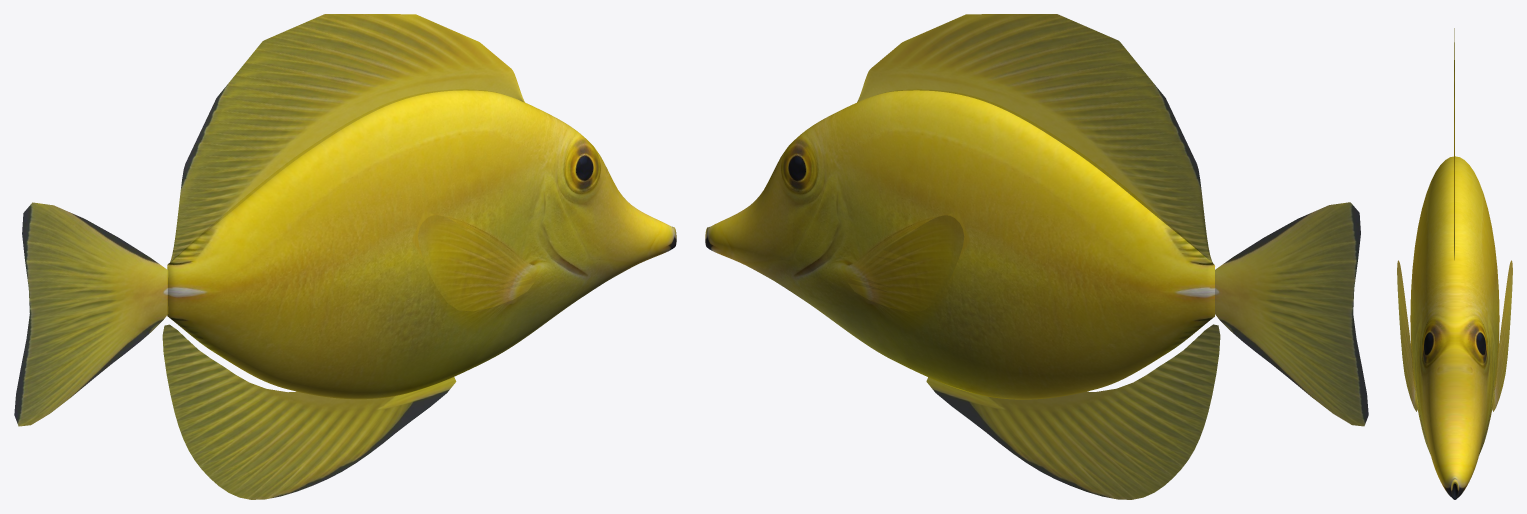
Rendered from yellow.glb.
The picture shows the model from 3 angles, left to right: view 1: azimuth 30°, elevation 25°; view 2: azimuth 150°, elevation 25°; view 3: azimuth 270°, elevation 25°; orthographic projection. The views are drawn at different scales.
Parts seen in each view (by area): view 1: yellow__body, yellow__fin_1, yellow__fin_2, yellow__fin_0, yellow__pectoral_1, yellow__gill_1, yellow__eye_1; view 2: yellow__body, yellow__fin_1, yellow__fin_2, yellow__fin_0, yellow__pectoral_-1, yellow__gill_-1, yellow__eye_-1; view 3: yellow__body, yellow__pectoral_1, yellow__pectoral_-1, yellow__eye_1, yellow__eye_-1, yellow__gill_1, yellow__gill_-1, yellow__fin_1.
Part boxes in pixels (x1,y1,x2,y2): yellow__body: (167, 90, 676, 399); yellow__fin_1: (167, 14, 525, 266); yellow__fin_2: (162, 324, 456, 499); yellow__fin_0: (14, 202, 168, 426); yellow__pectoral_1: (418, 215, 533, 311); yellow__gill_1: (539, 176, 589, 307); yellow__eye_1: (569, 143, 598, 187); yellow__body: (705, 90, 1214, 399); yellow__fin_1: (857, 14, 1215, 266); yellow__fin_2: (926, 324, 1220, 499); yellow__fin_0: (1215, 202, 1368, 426); yellow__pectoral_-1: (848, 215, 964, 311); yellow__gill_-1: (792, 176, 842, 307); yellow__eye_-1: (783, 143, 812, 187); yellow__body: (1410, 156, 1499, 499); yellow__pectoral_1: (1397, 260, 1417, 411); yellow__pectoral_-1: (1492, 260, 1512, 411); yellow__eye_1: (1422, 324, 1443, 362); yellow__eye_-1: (1466, 324, 1487, 362); yellow__gill_1: (1416, 324, 1430, 454); yellow__gill_-1: (1479, 324, 1493, 454); yellow__fin_1: (1454, 28, 1454, 260).
Size of the model in its own units: 1.31 by 0.8925 by 0.2108.
Materials: 5 (5 with a texture image).
